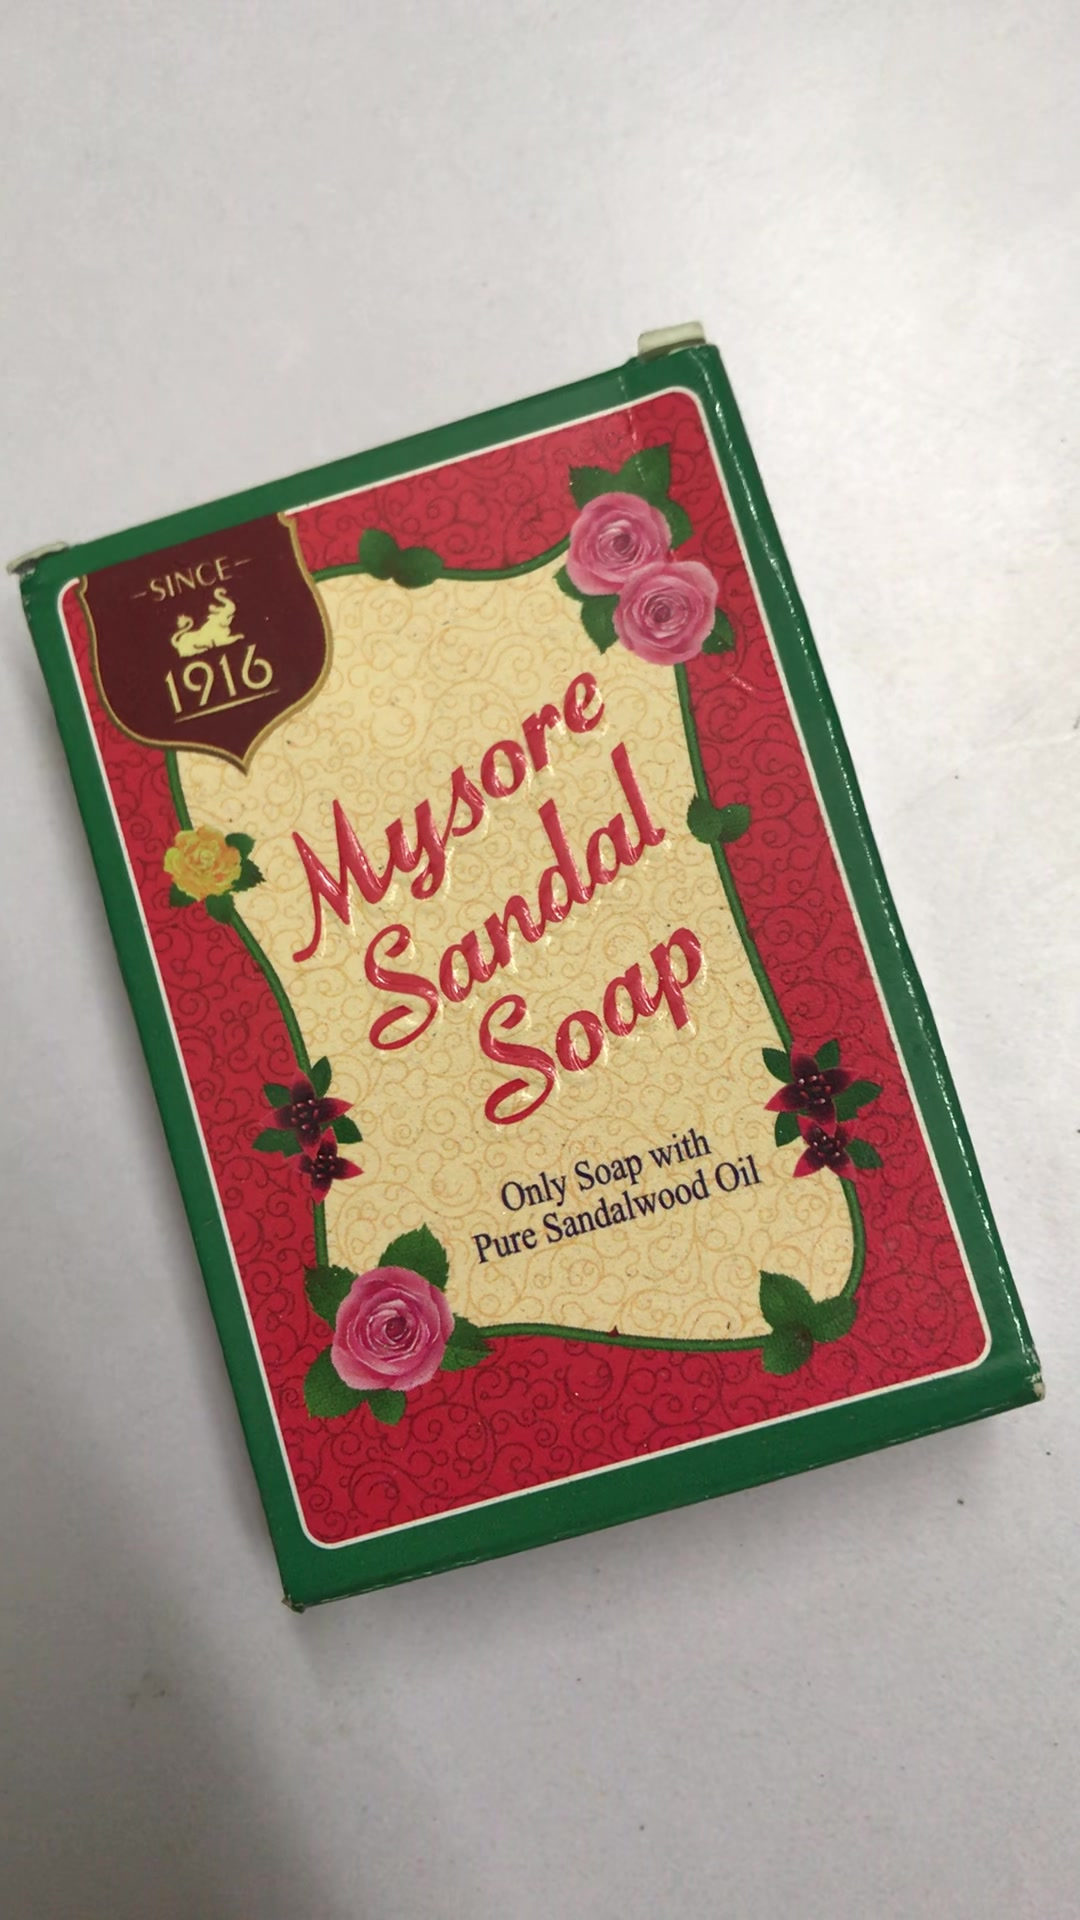mysore sandal soap: (18, 345, 1043, 1615)
